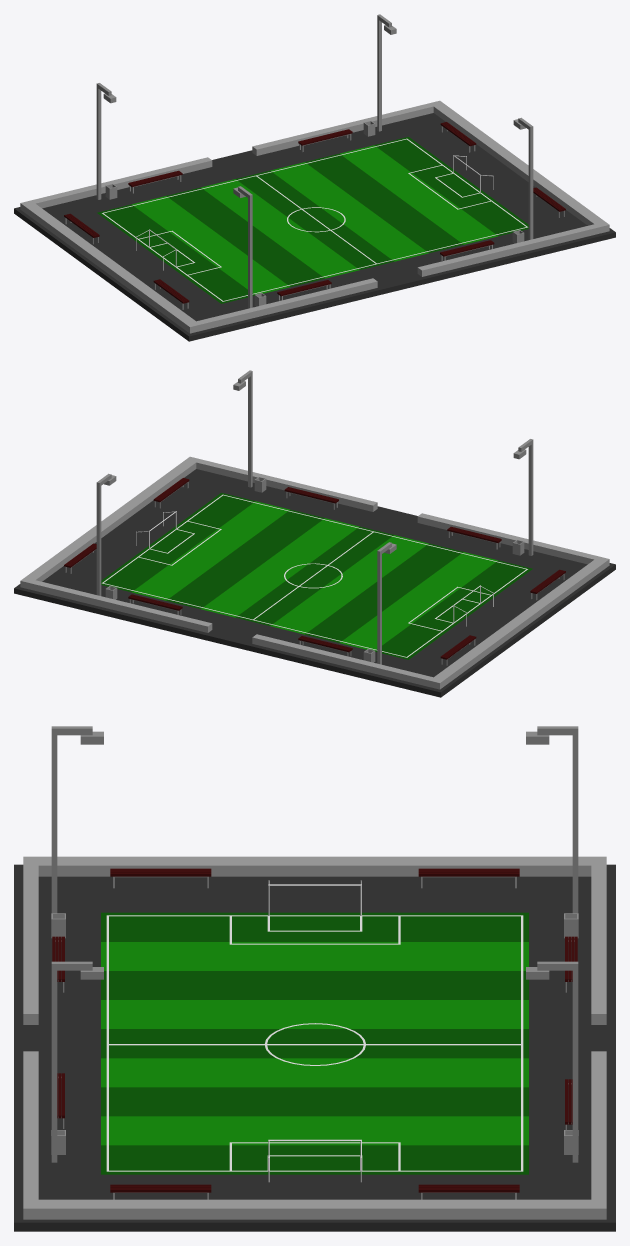
Rendered from Building_Football.fbx.
3 views of the same model, one above another, from view 1: azimuth 30°, elevation 25°; view 2: azimuth 150°, elevation 25°; view 3: azimuth 270°, elevation 25° (orthographic). The views are drawn at different scales.
Parts seen in each view (by area): view 1: Building_Fottball; view 2: Building_Fottball; view 3: Building_Fottball.
Boxes of the visible parts, bbox=[...] form: Building_Fottball: bbox=[14, 14, 615, 341]; Building_Fottball: bbox=[14, 370, 615, 697]; Building_Fottball: bbox=[14, 726, 615, 1231].
Bounding box in the file's own units: 355 × 95.89 × 252.
